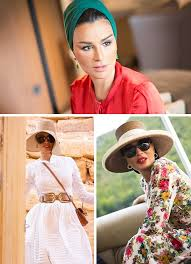middle_eastern_Female: (65, 9, 118, 80)
